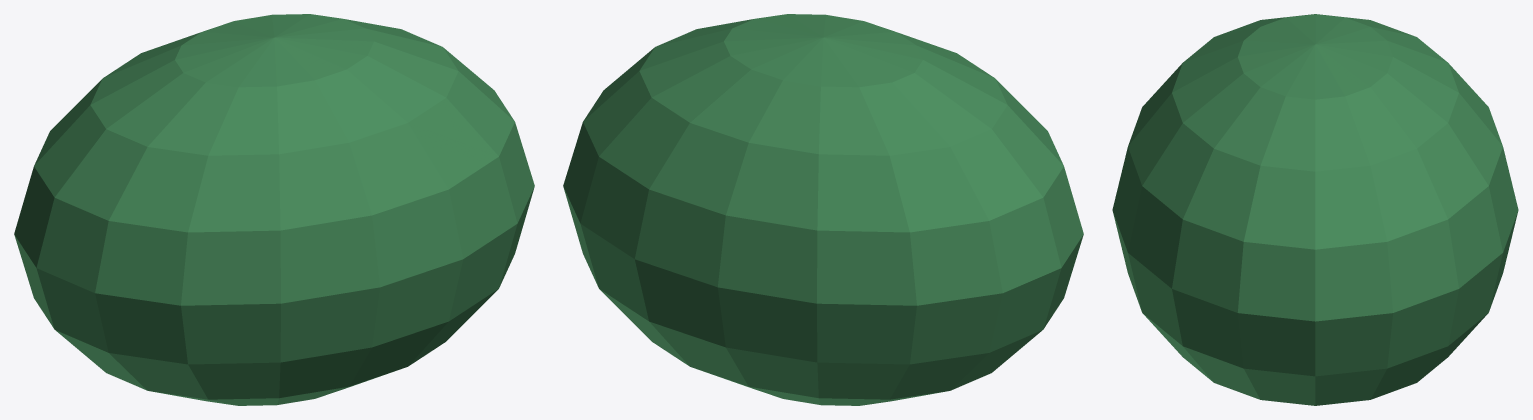
The model's file is Vegetation_015.glb.
3 renders of one model, left to right at view 1: azimuth 30°, elevation 25°; view 2: azimuth 150°, elevation 25°; view 3: azimuth 270°, elevation 25°, orthographic. The views are drawn at different scales.
Parts seen in each view (by area): view 1: Vegetation_015; view 2: Vegetation_015; view 3: Vegetation_015.
Boxes of the visible parts, x1=… form: Vegetation_015: x1=14, y1=14, x2=534, y2=405; Vegetation_015: x1=563, y1=14, x2=1083, y2=405; Vegetation_015: x1=1112, y1=14, x2=1518, y2=405.
Bounding box in the file's own units: 2.6 × 1.8 × 2.
